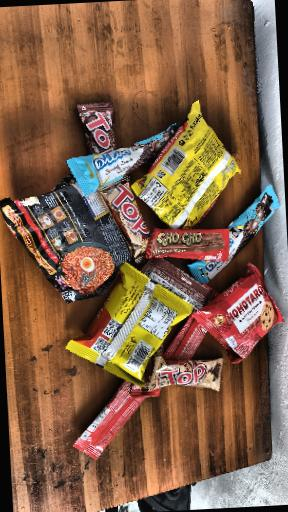indomie: (141, 106, 247, 247)
mie sedap: (0, 161, 122, 334)
momotaro: (201, 281, 288, 367)
top: (137, 347, 240, 415)
